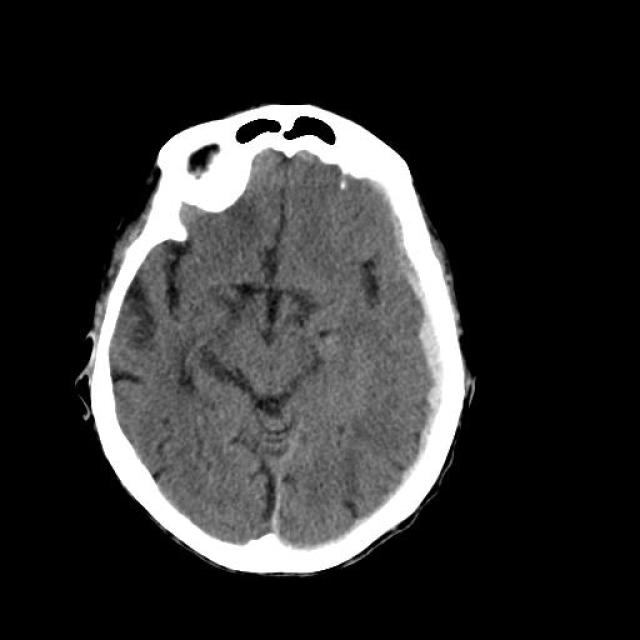Subdural: (392, 230, 470, 515)
